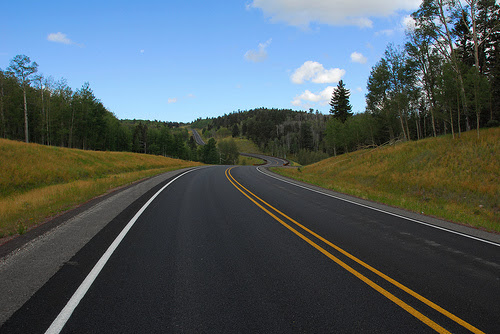strada: (0, 169, 500, 331)
